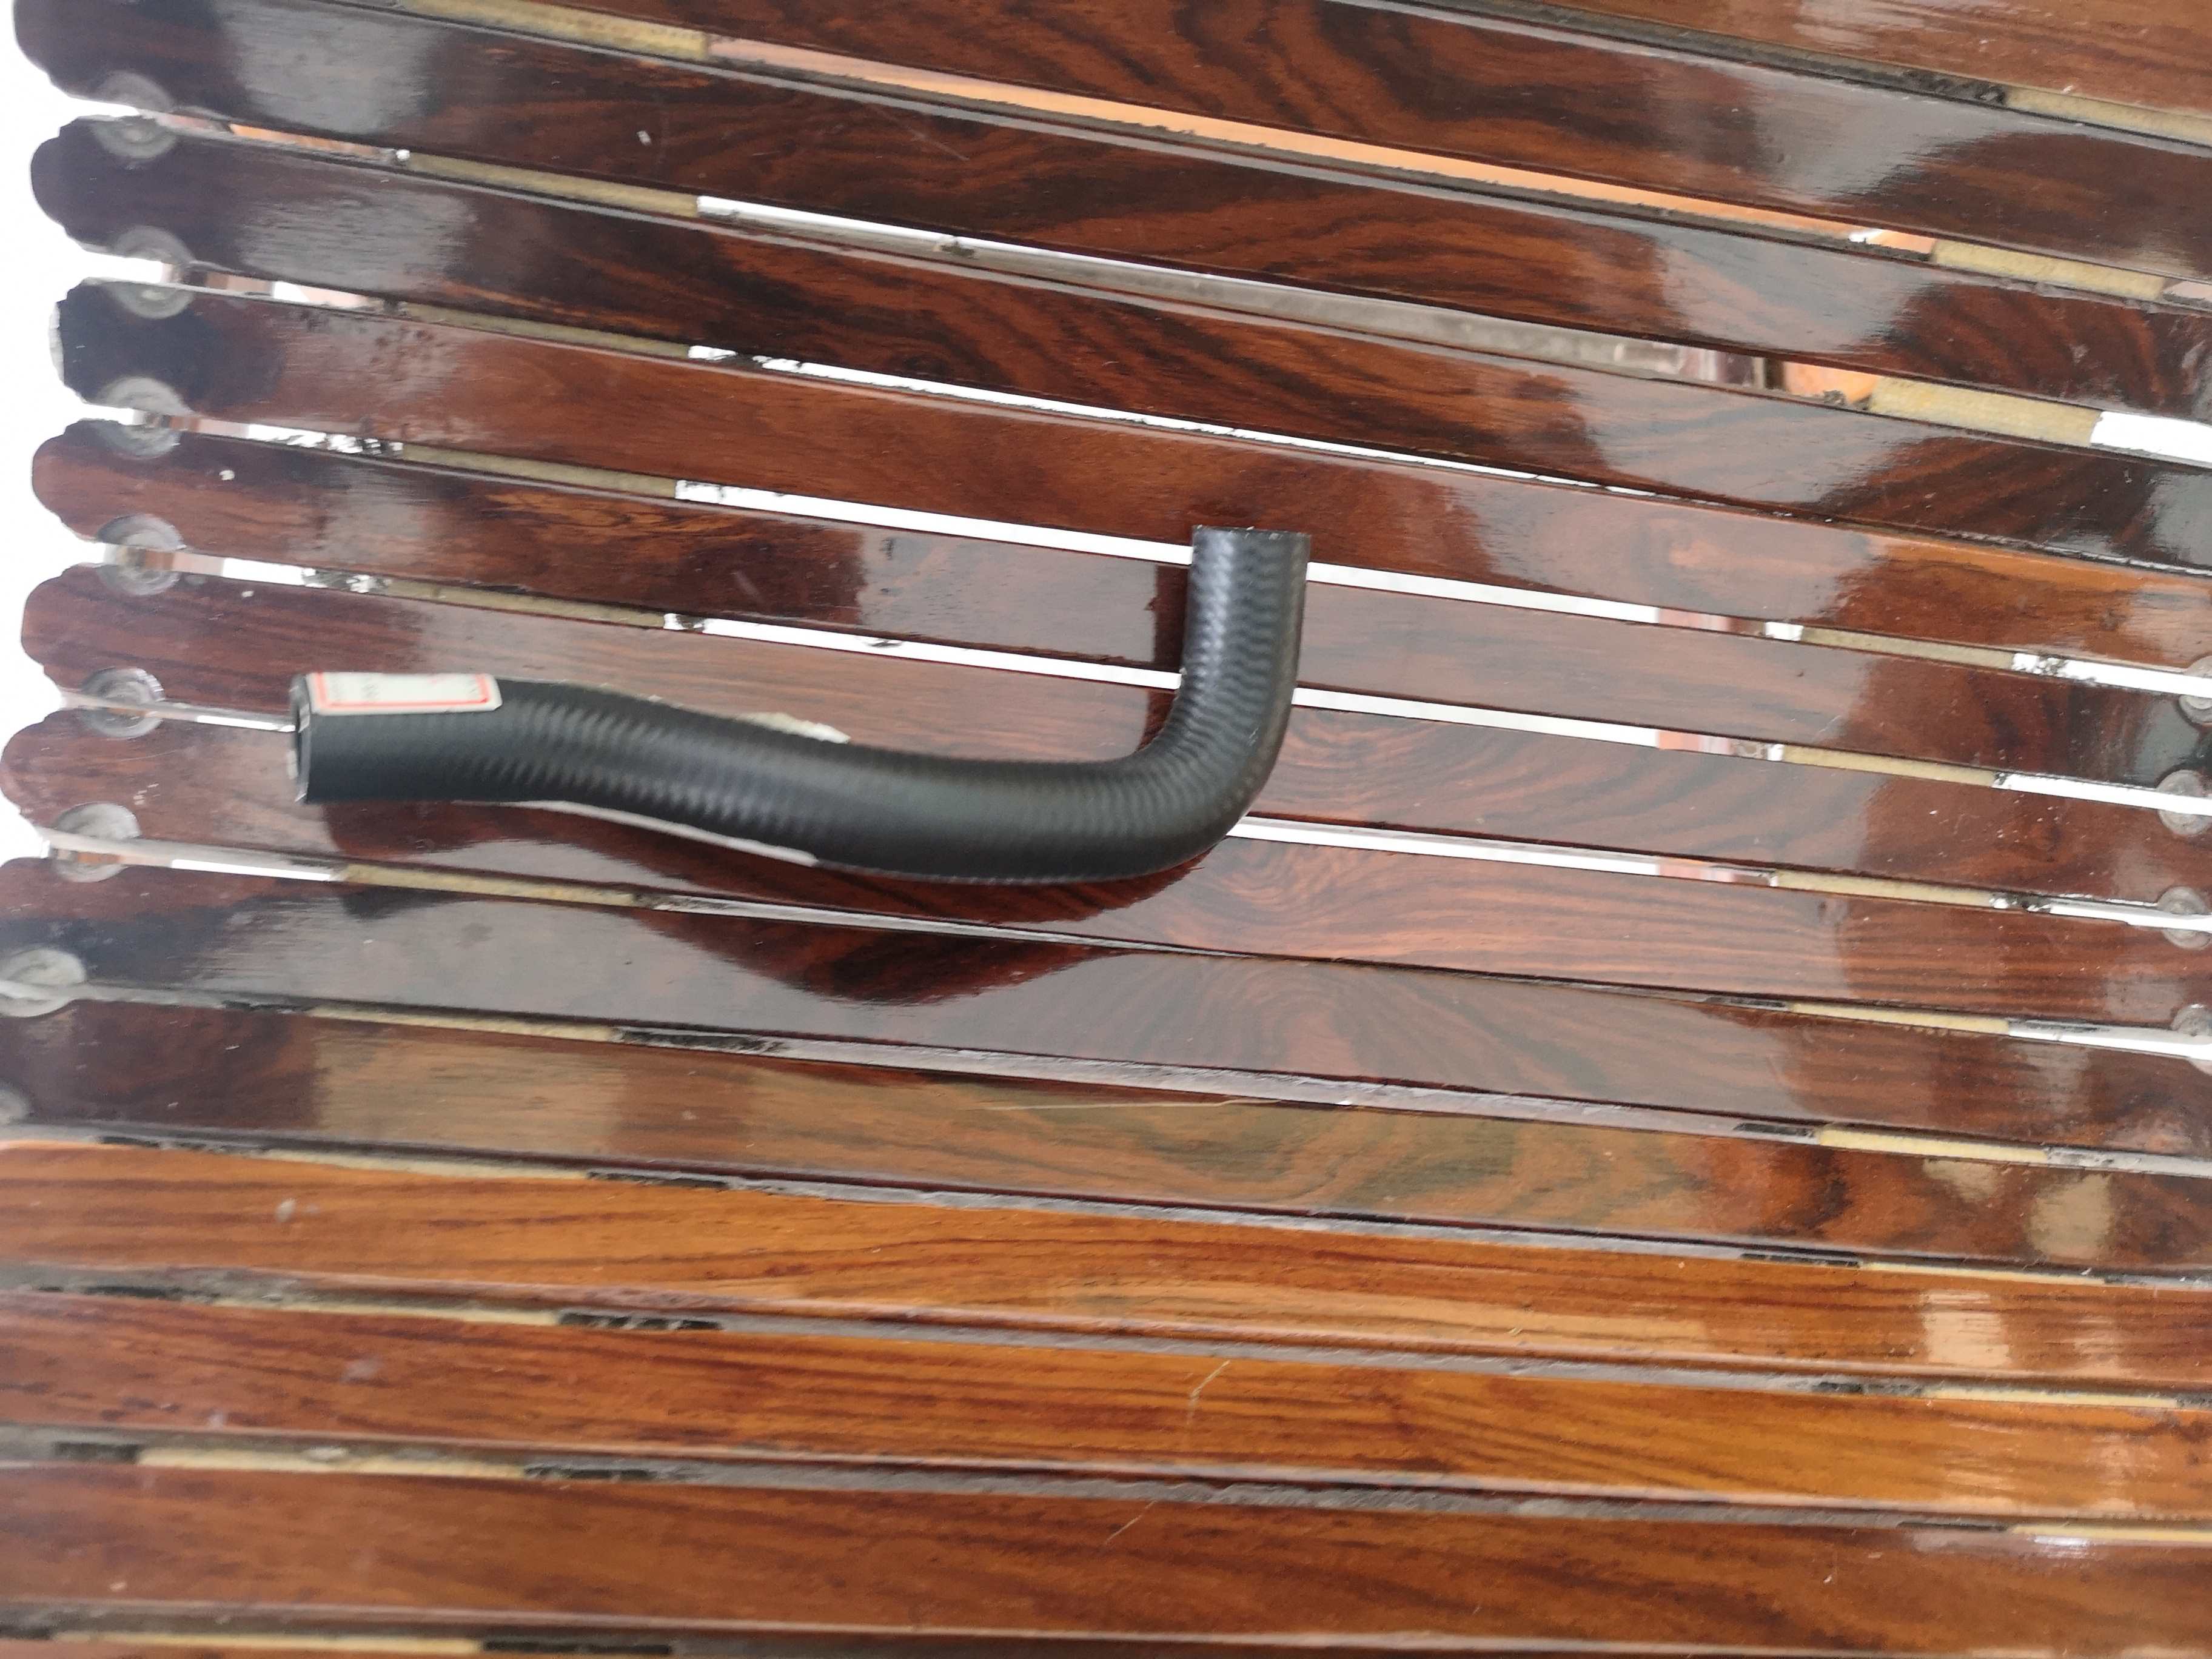ท่อยางน้ำมันเลี้ยงเทอร์โบ: (256, 413, 1353, 969)
